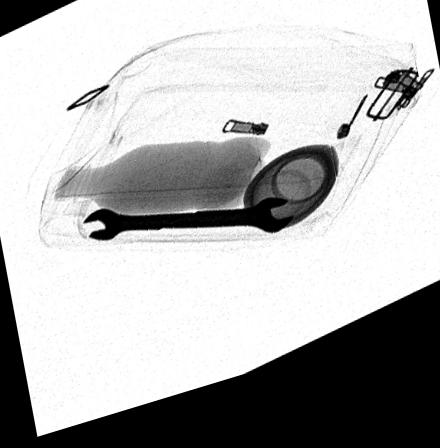Wrench: (77, 211, 295, 251)
